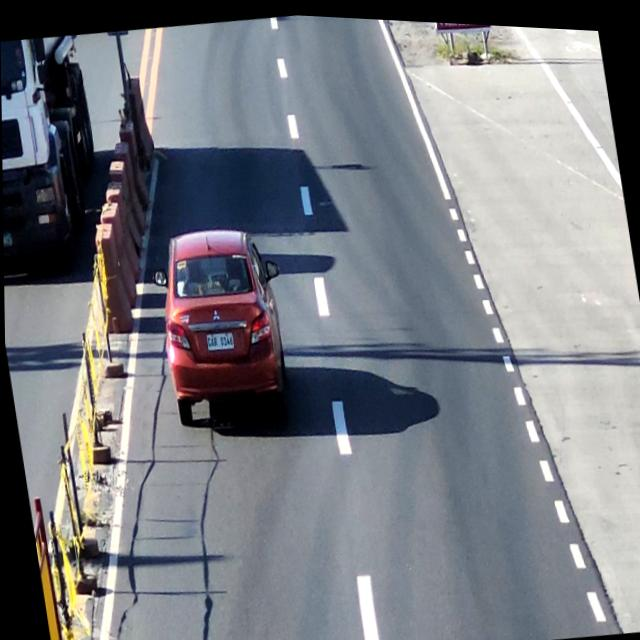Car: (148, 216, 298, 433)
License-Plate: (202, 325, 236, 354)
